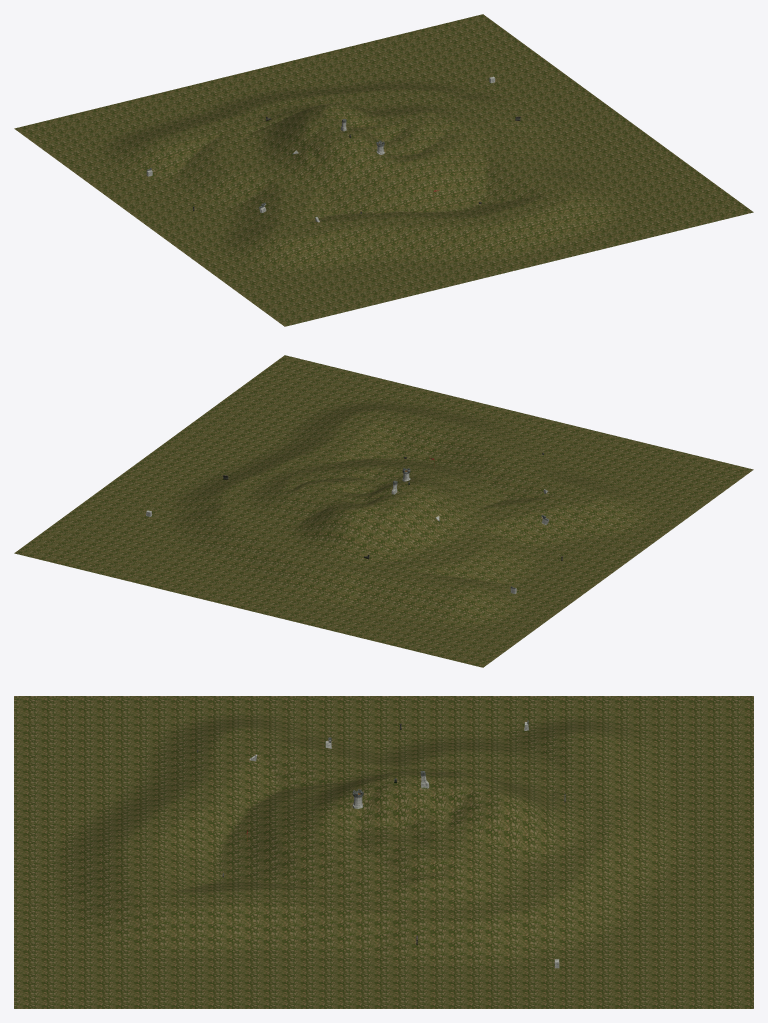
File: gravey.FBX
3 views of the same model, one above another, from view 1: azimuth 30°, elevation 25°; view 2: azimuth 150°, elevation 25°; view 3: azimuth 270°, elevation 25° (orthographic). The views are drawn at different scales.
Visible parts, largest first — view 1: Plane001; view 2: Plane001; view 3: Plane001.
Part boxes in pixels (x1,y1,x2,y2): Plane001: (14, 14, 753, 326); Plane001: (14, 355, 753, 667); Plane001: (14, 696, 753, 1008).
Size of the model in its own units: 2000 by 191 by 2000.
6 materials, 6 textured.
